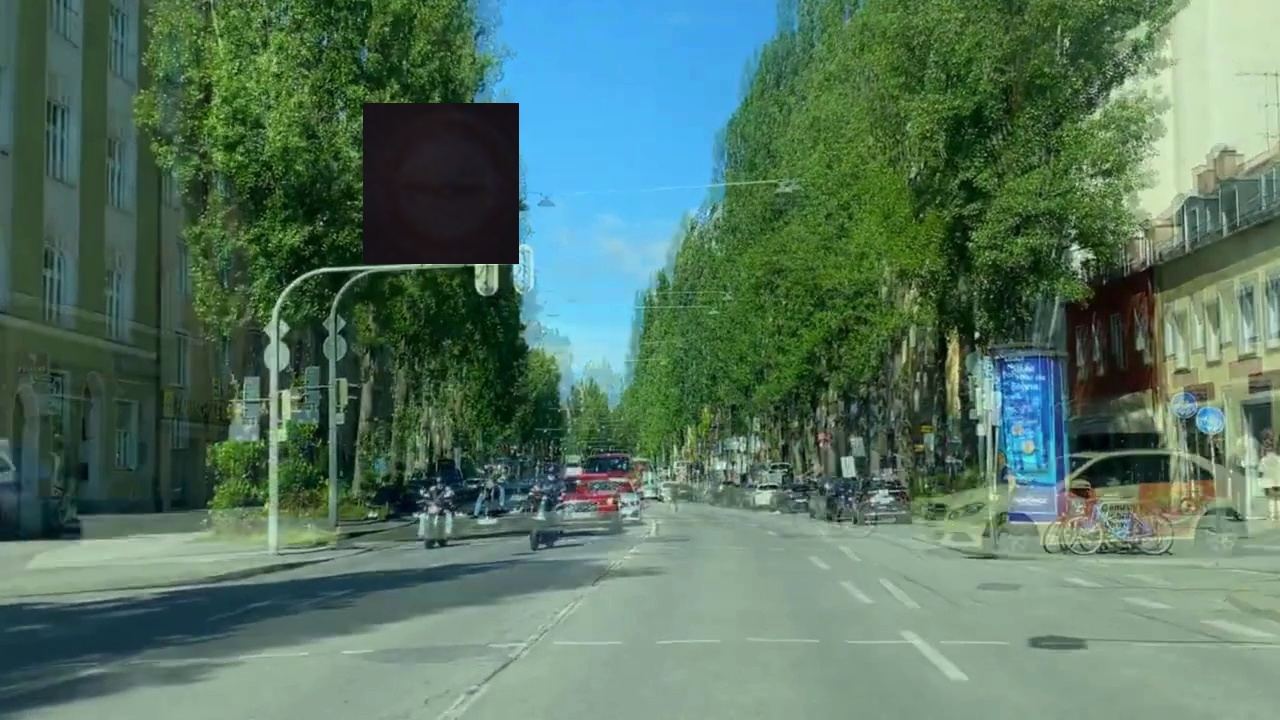No passing: (363, 103, 519, 264)
